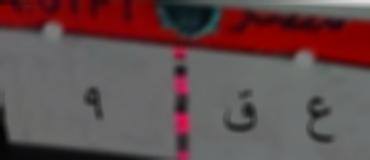9: (80, 82, 108, 131)
ain: (302, 91, 338, 152)
qaaf: (221, 85, 262, 141)
